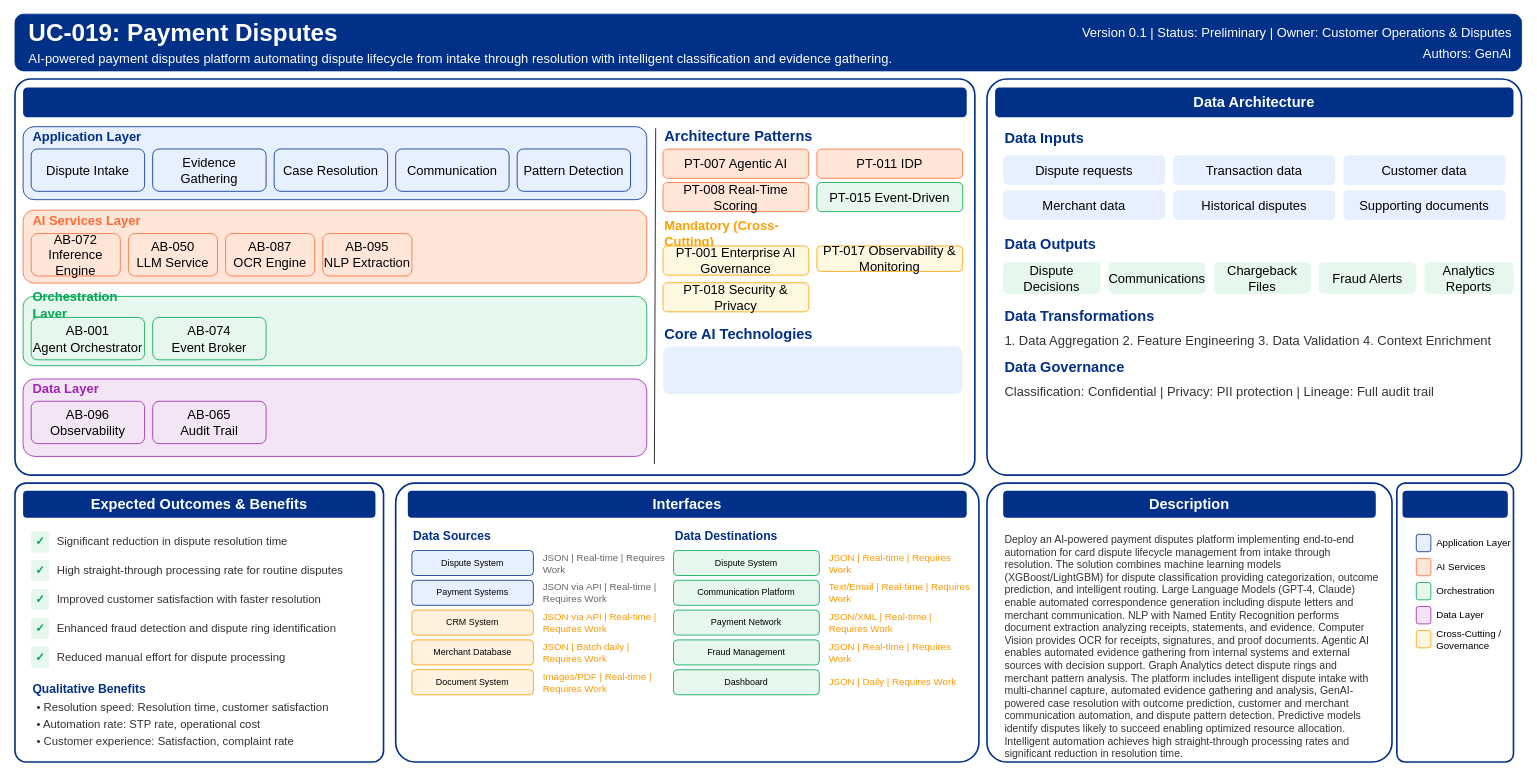
Image size: 1537x777. Some labels were removed from this diagram. Each missing label, with the box of its shape:
Legend: (1402, 490, 1507, 517)
Solution: (23, 87, 966, 117)
XGBoost/LightGBM | GPT-4/Claude | Graph Analytics: (663, 346, 962, 394)
